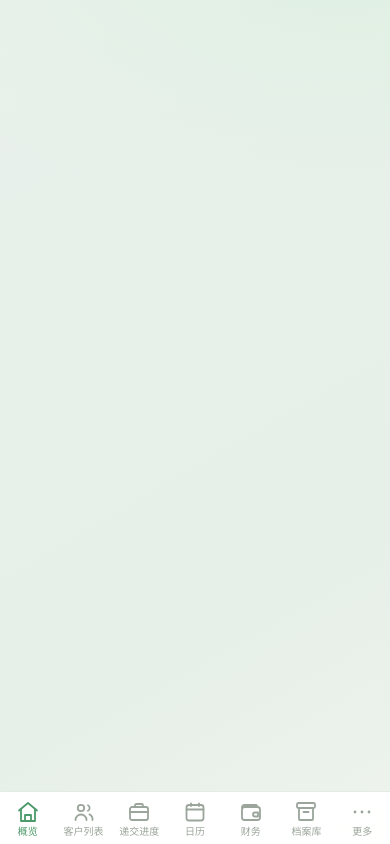
it: BottomTabBar（移动端底部导航 · 主项 + 更多溢出） › admin：溢出菜单含「账号」
The width and height of the screenshot is (390, 844).
Step 1. Click the button "更多" → (362, 818), box [334, 792, 389, 843]
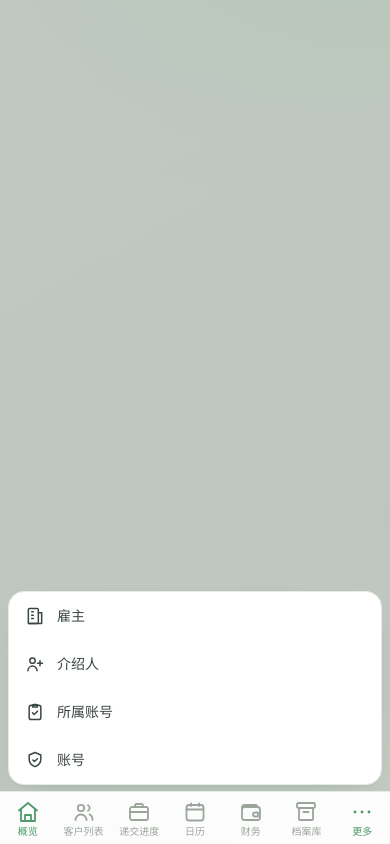
Result: the link "账号" is shown at [25, 750, 85, 770]
